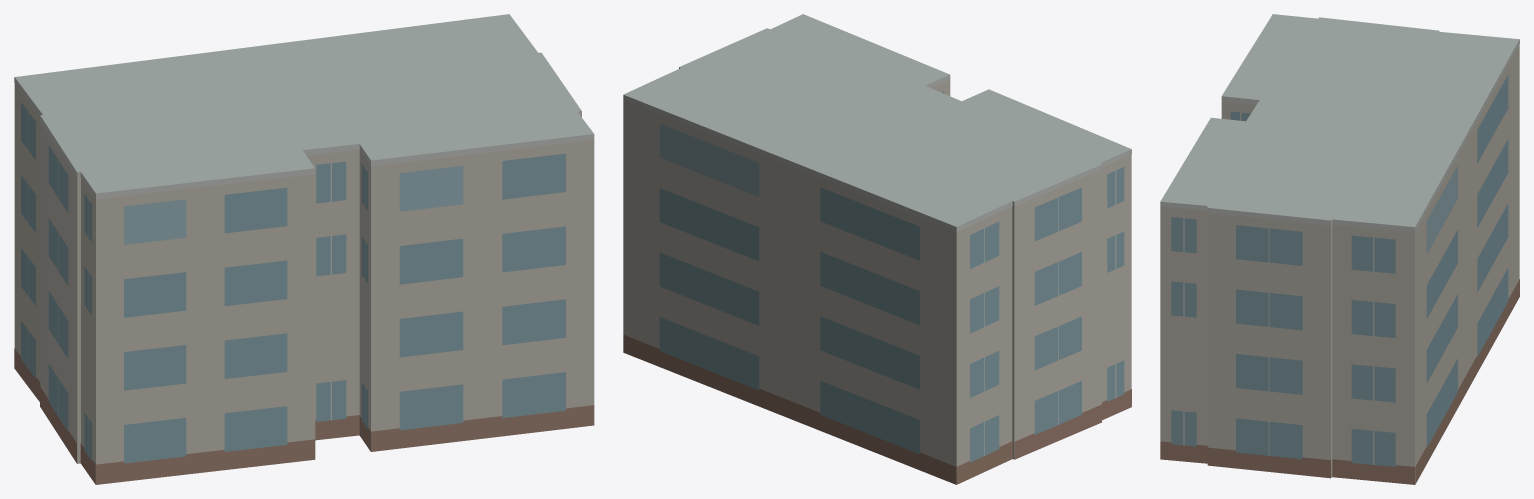
The model's file is survey-upis-32803010.glb.
3 renders of one model, left to right at view 1: azimuth 30°, elevation 25°; view 2: azimuth 150°, elevation 25°; view 3: azimuth 270°, elevation 25°, orthographic. The views are drawn at different scales.
Parts seen in each view (by area): view 1: survey-upis-32803010.tmp; view 2: survey-upis-32803010.tmp; view 3: survey-upis-32803010.tmp.
Boxes of the visible parts, x1=… form: survey-upis-32803010.tmp: x1=14, y1=14, x2=594, y2=484; survey-upis-32803010.tmp: x1=623, y1=14, x2=1131, y2=484; survey-upis-32803010.tmp: x1=1160, y1=14, x2=1519, y2=484.
Bounding box in the file's own units: 21.65 × 12.2 × 15.43.
